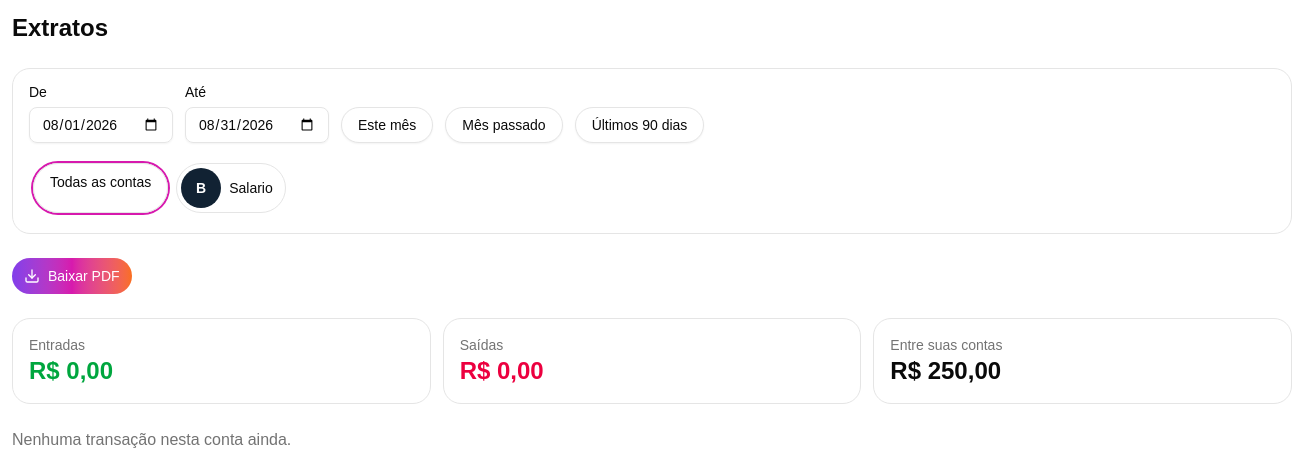
it: extrato por periodo › a cifra de movimentacao interna so aparece no consolidado
Check: the text with test id "total-internas" shows "250,00", box [890, 357, 1001, 384]
Click the radio button labelled "B Salario": x=231, y=188 [176, 163, 286, 213]
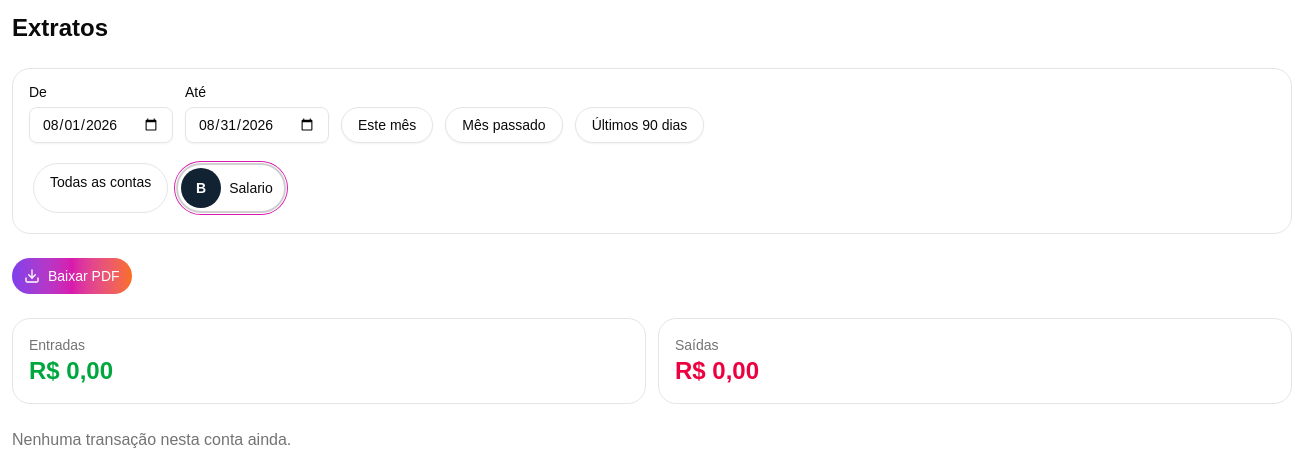
Check: the text with test id "total-internas" is gone
